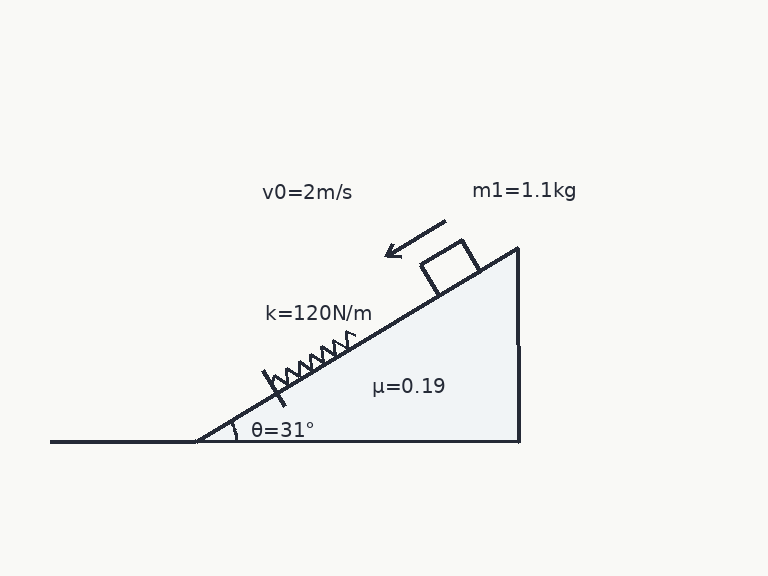block: (418, 238, 482, 297)
ramp: (194, 246, 519, 443)
spring: (270, 330, 357, 387)
